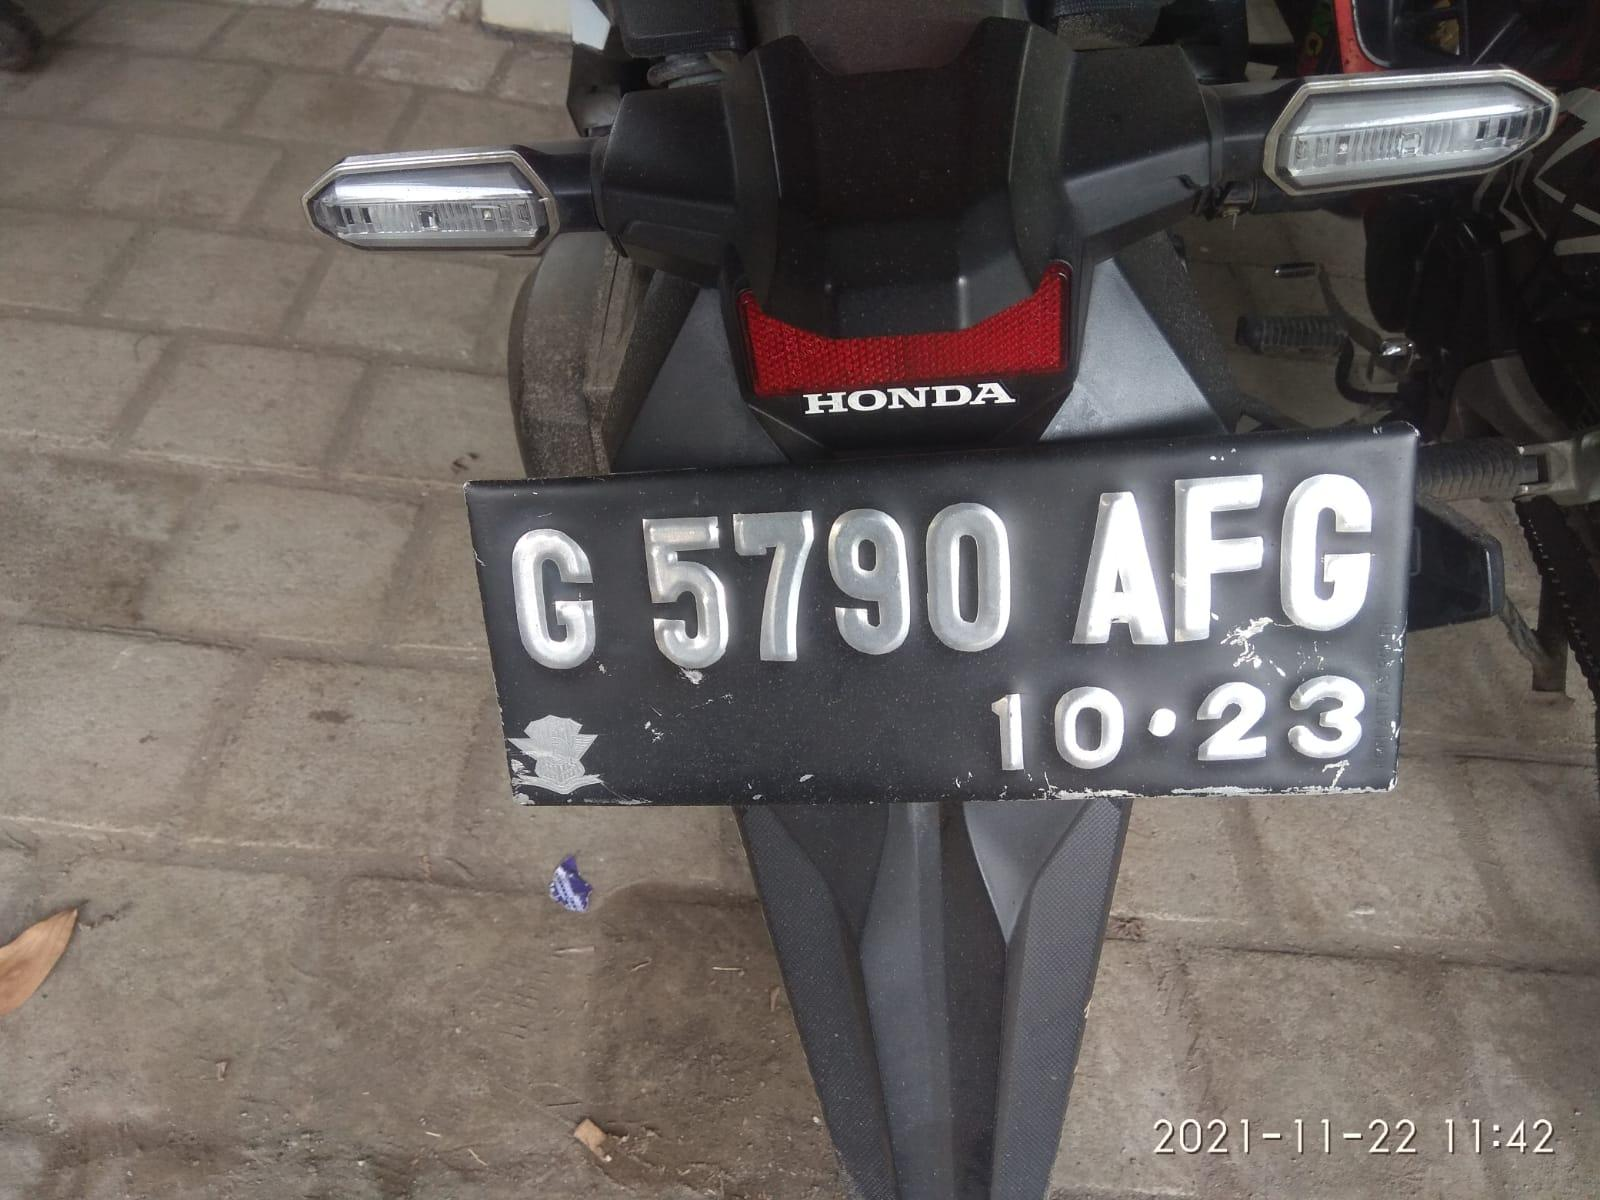plat: (466, 429, 1416, 807)
